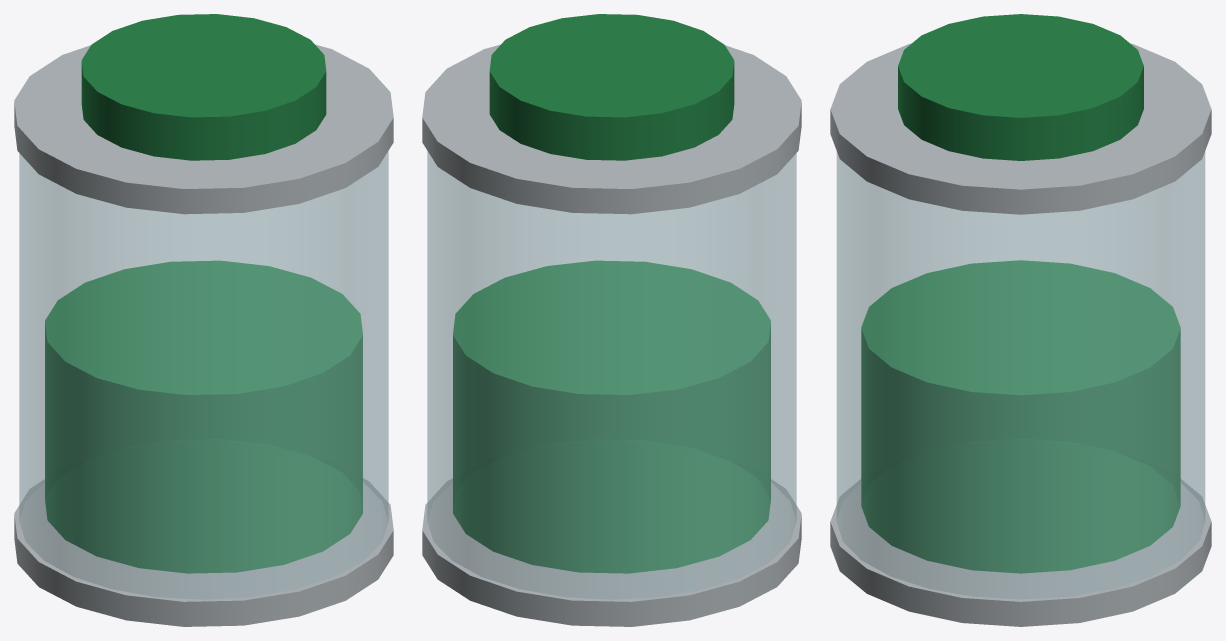
File: catalogue-nutrient-source.glb
3 renders of one model, left to right at view 1: azimuth 30°, elevation 25°; view 2: azimuth 150°, elevation 25°; view 3: azimuth 270°, elevation 25°, orthographic.
Bounding box in the file's own units: 0.62 × 0.8625 × 0.62.
